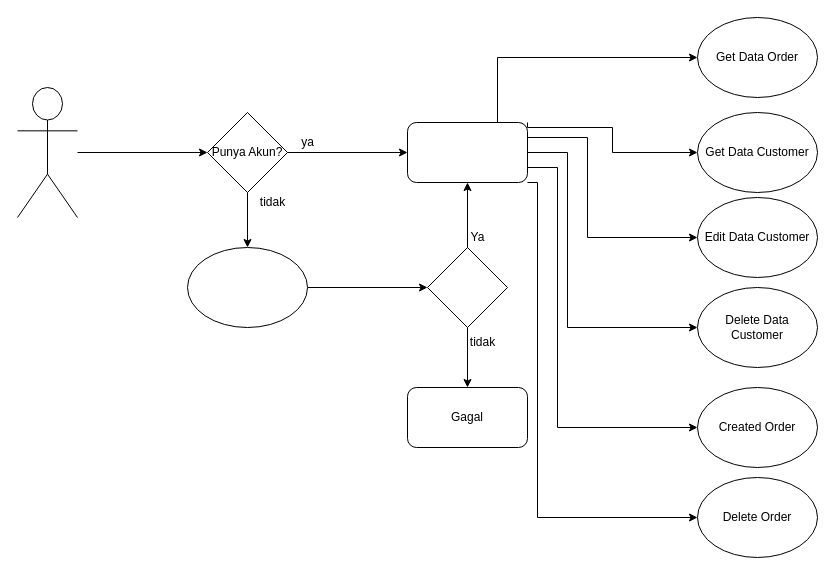
Some shapes in this 835 by 575 pixel diagram are drawn without their labels. Each missing label, with the centre of its shape:
"Actor" goes at (47,152).
"Berhasil?" goes at (467,287).
"Login" goes at (467,152).
"Registrasi Customer" goes at (247,287).
